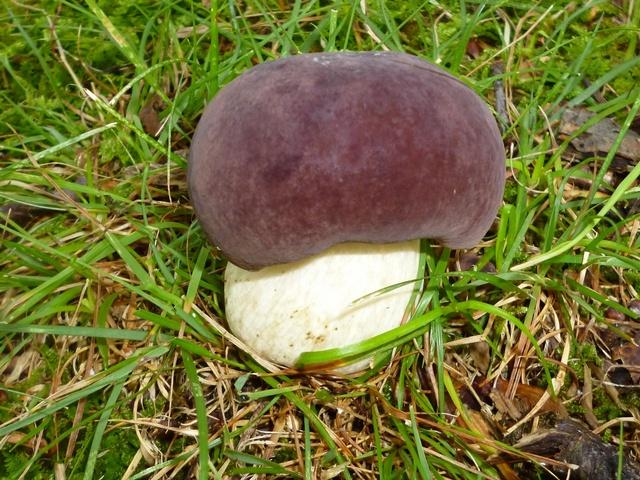poisonous_mushroom: (185, 49, 507, 378)
